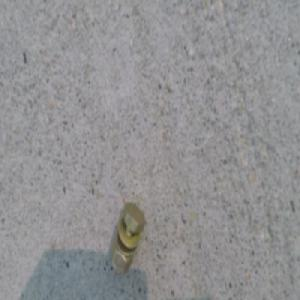BoltNutSet: (113, 198, 146, 270)
